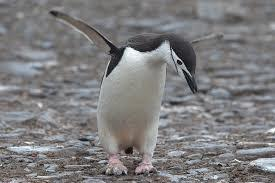chinstrap: (68, 5, 205, 174)
